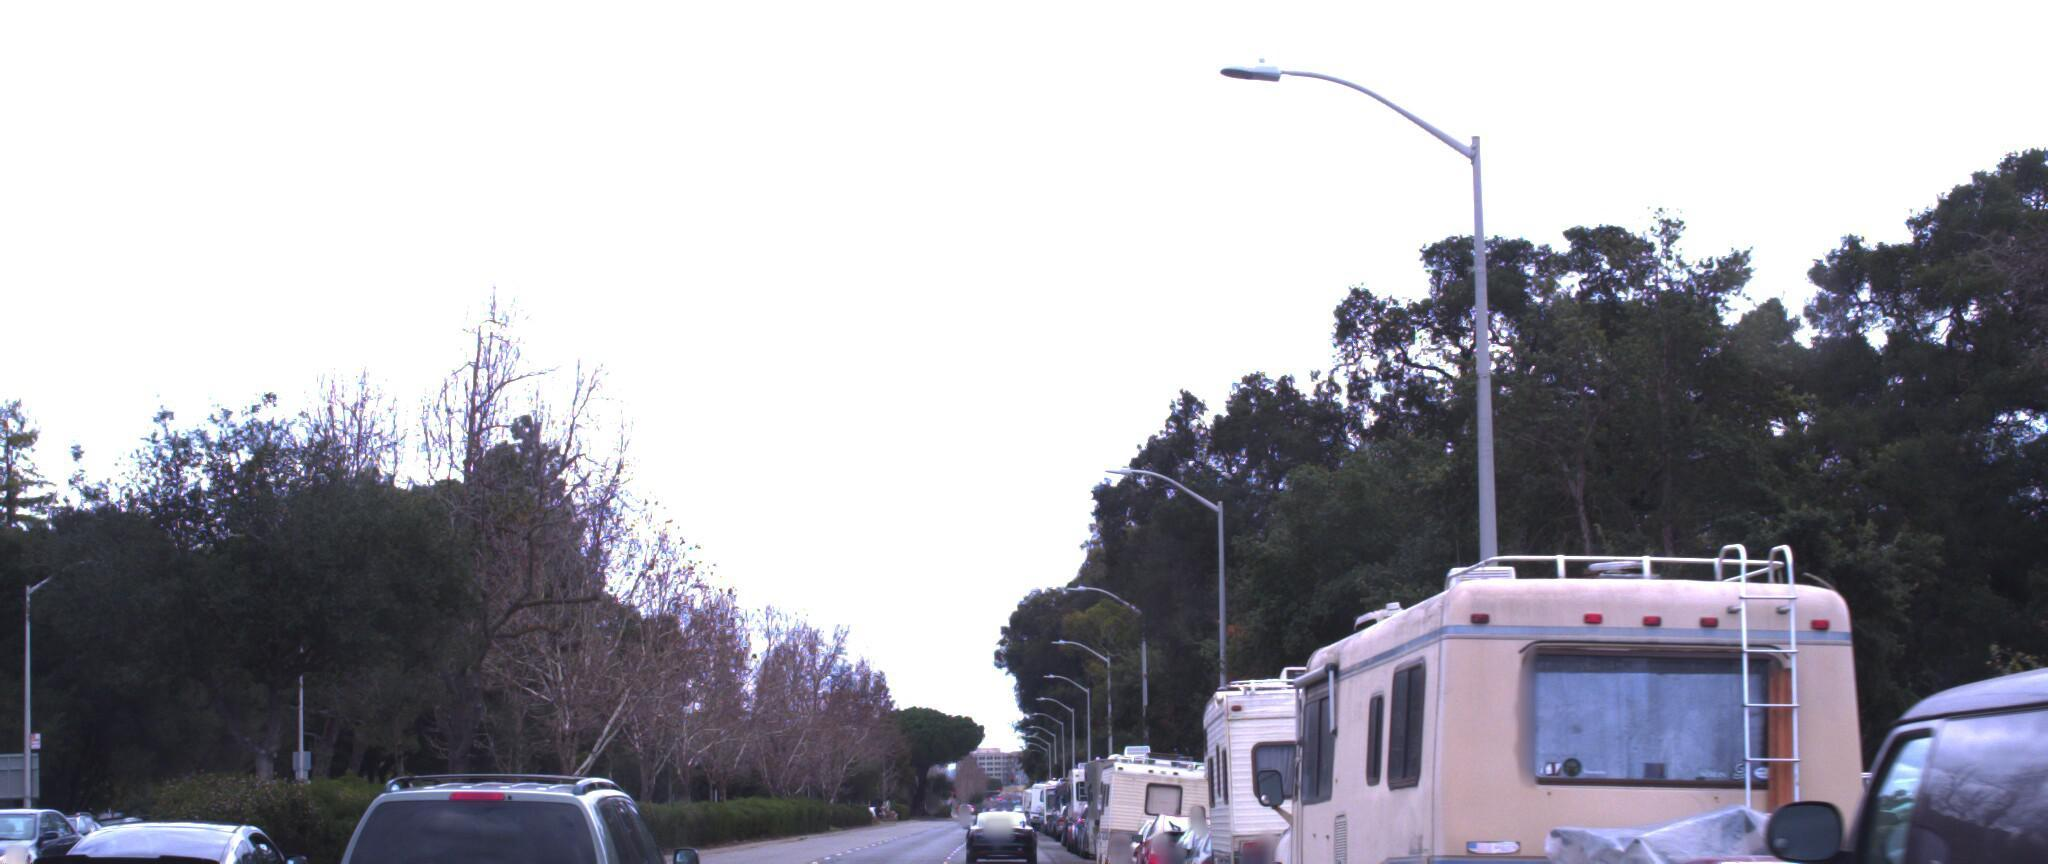car: (1691, 587, 2048, 864), (313, 757, 708, 864), (4, 788, 341, 864), (1455, 827, 2048, 864), (1228, 805, 1514, 864), (1145, 797, 1307, 864), (0, 782, 110, 864), (1115, 794, 1234, 864), (963, 792, 1032, 852)
other_vehicle: (1219, 486, 1964, 864), (1162, 630, 1485, 864), (1078, 728, 1211, 864)
